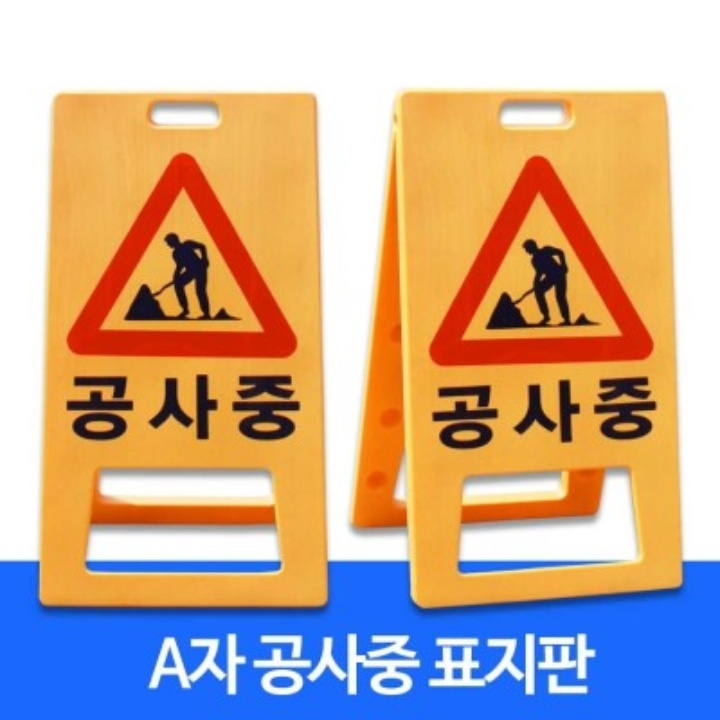const: (111, 227, 249, 325), (485, 237, 595, 325)
